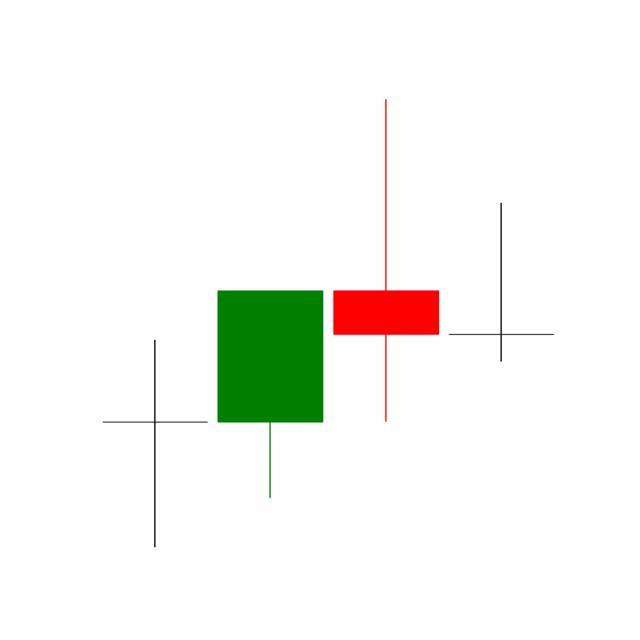Spinning Top: (444, 202, 560, 364)
